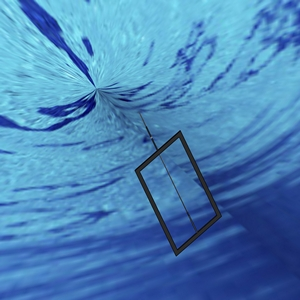circle: (134, 105, 222, 257)
